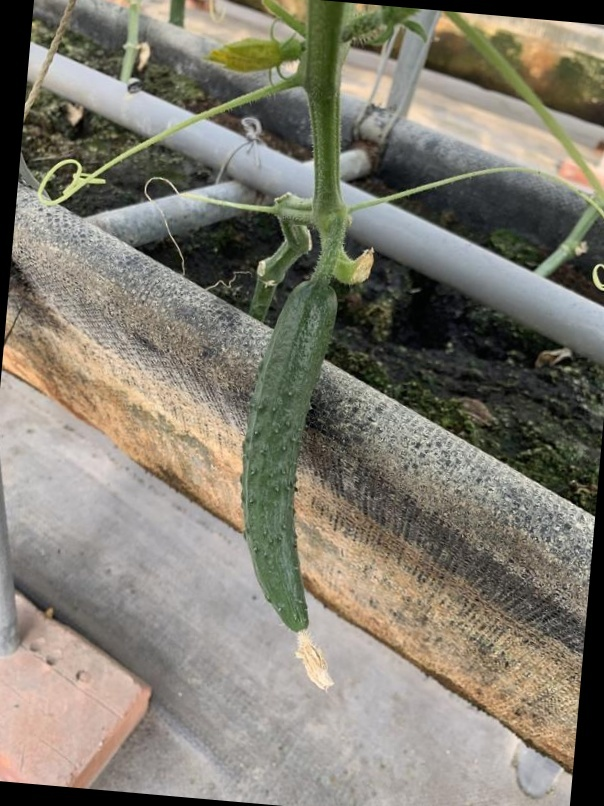growth: (219, 272, 357, 687)
